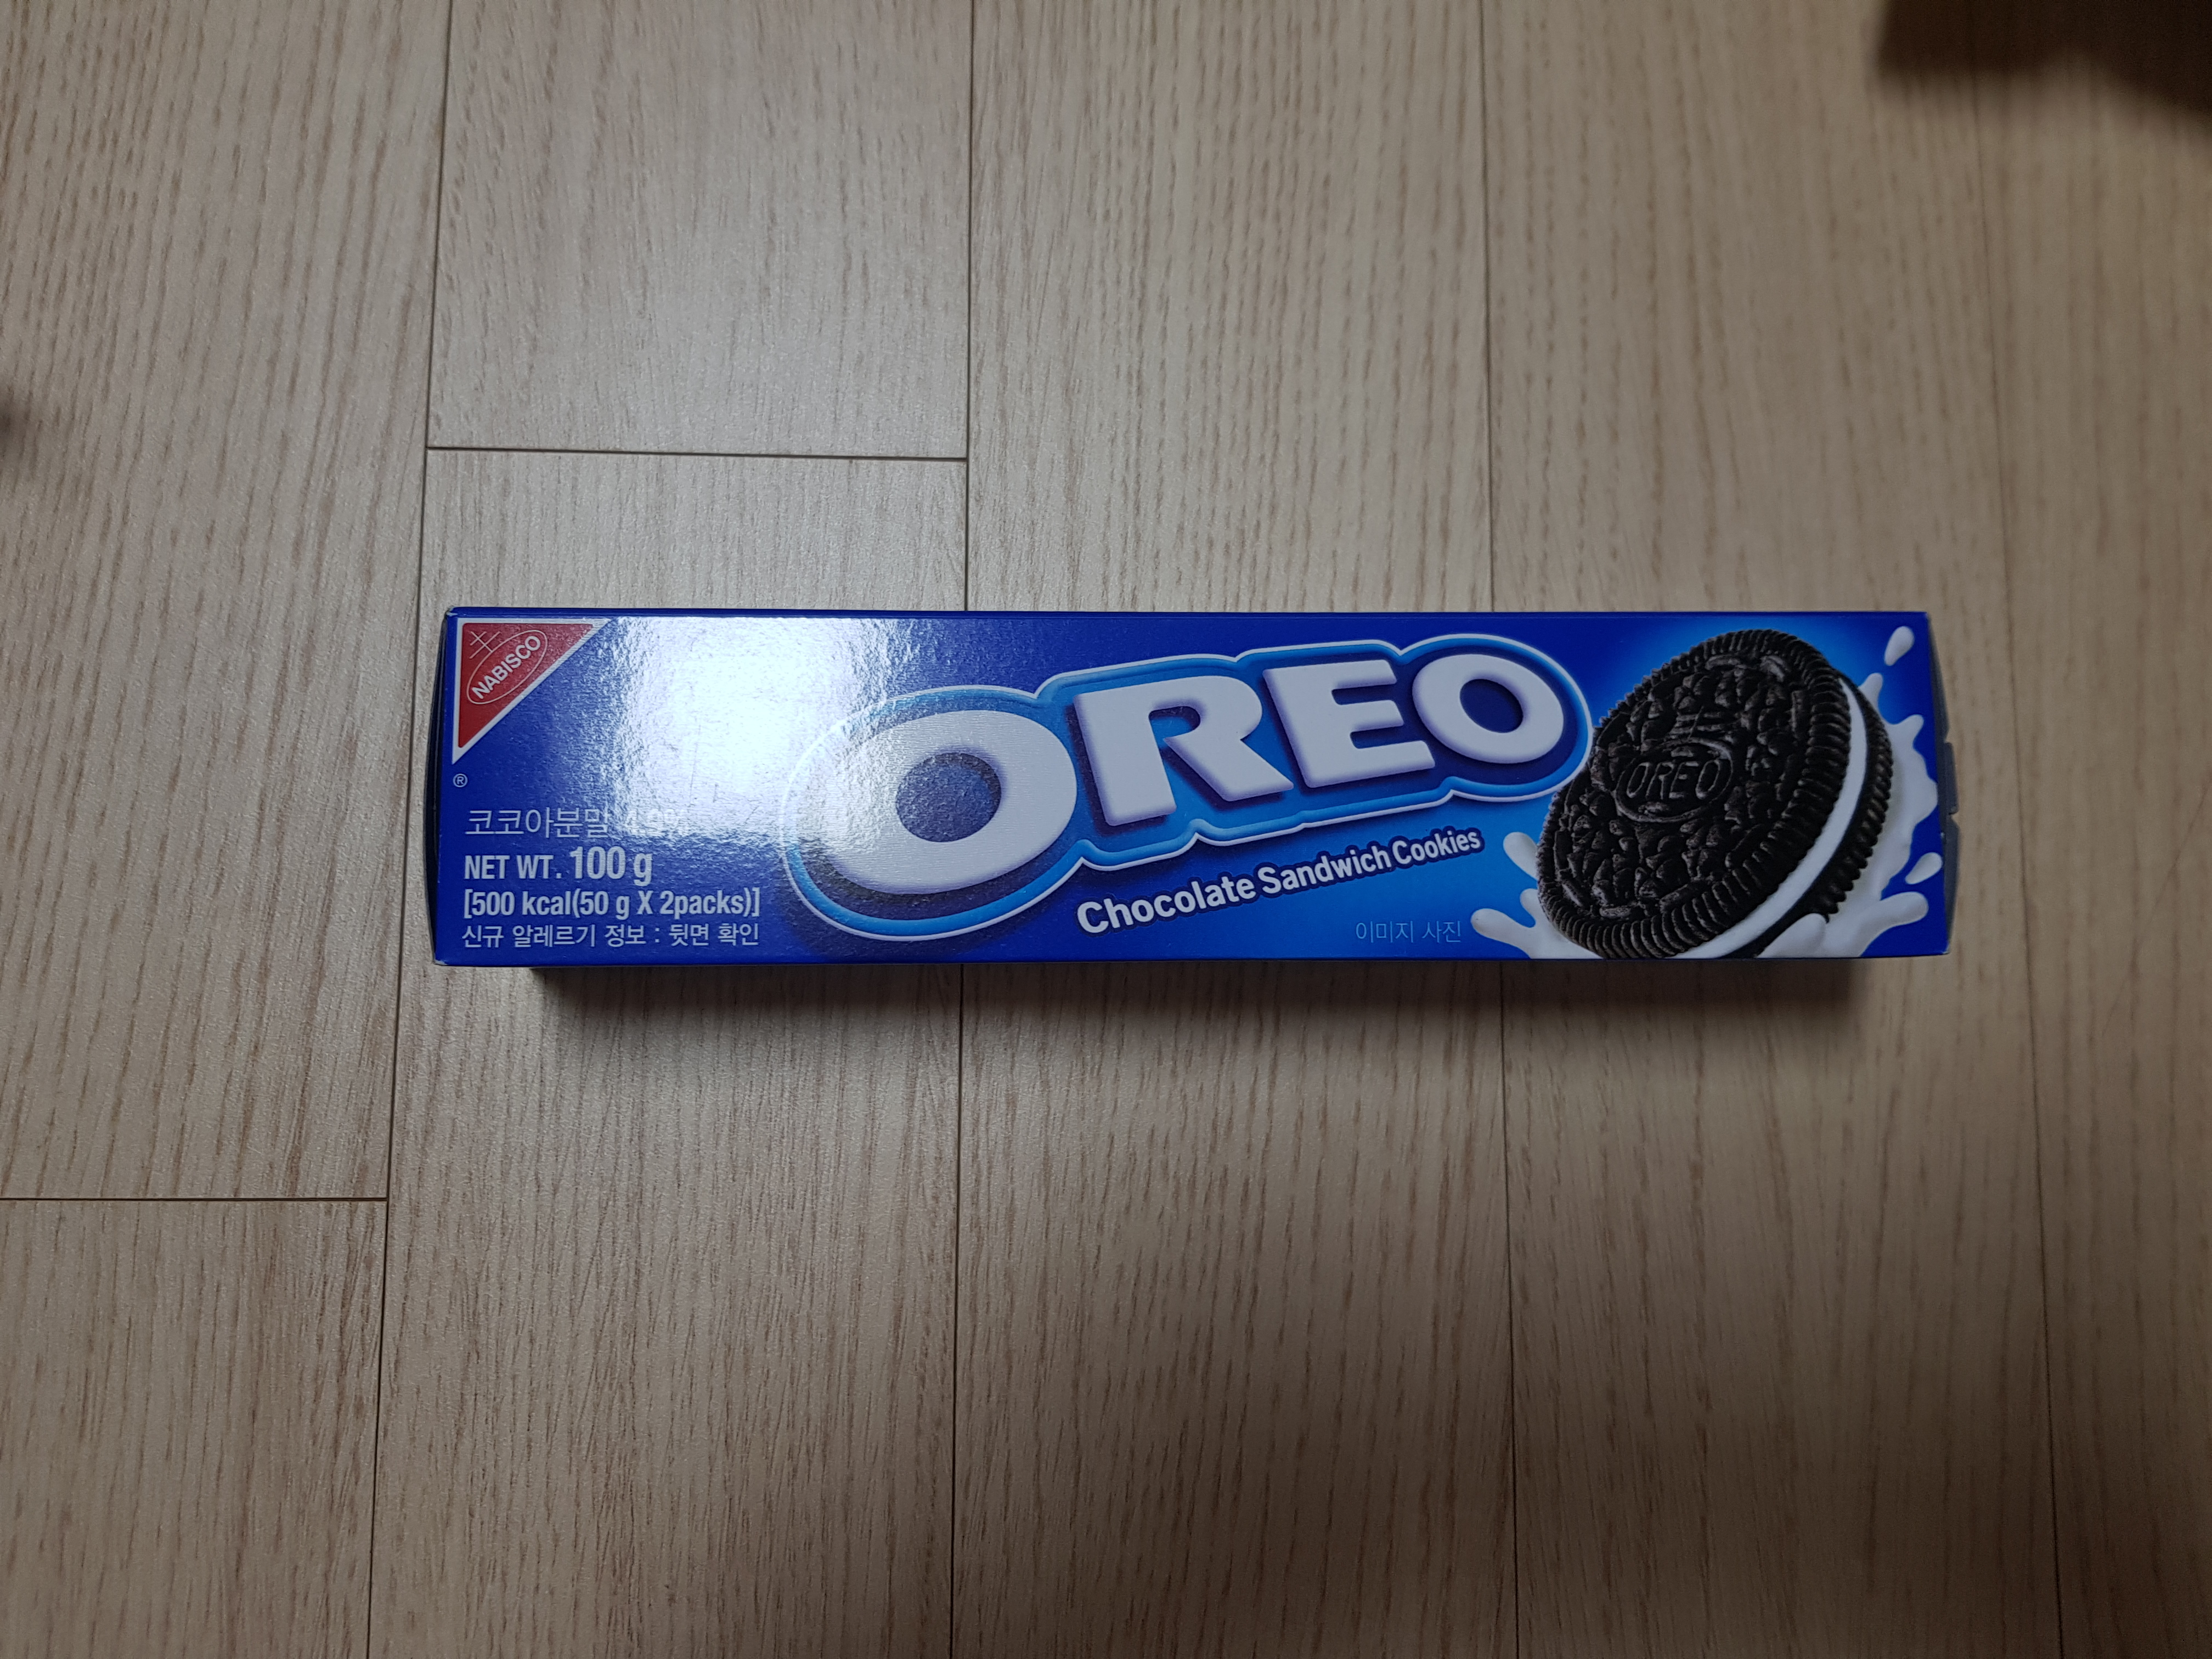oreo: (406, 579, 1961, 990)
